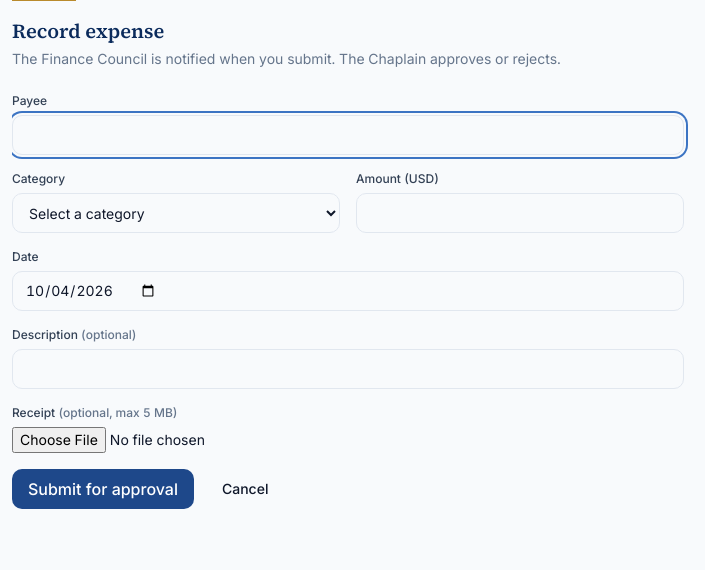
it: ExpenseFormPage (story 5.5) › blocks submission until required fields are valid
The image size is (705, 570).
Expected: the field labelled "Payee" is shown, [12, 115, 684, 155]
Click the button "Submit for approval": (103, 489) [12, 469, 194, 509]
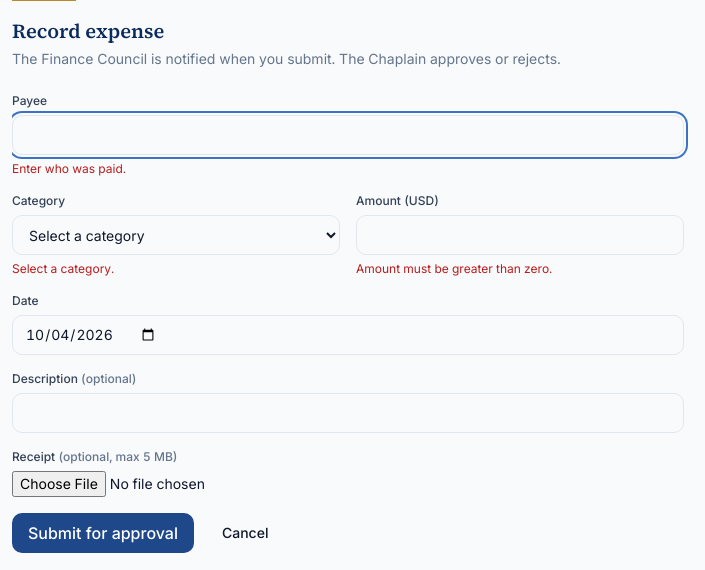
Result: the text "Enter who was paid." is shown at [12, 161, 126, 176]
Result: the text "Select a category." is shown at [12, 261, 114, 276]
